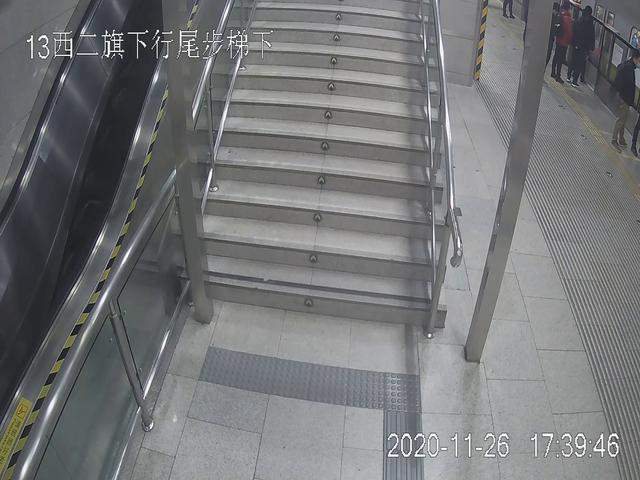person: (610, 44, 640, 157), (549, 1, 576, 84)
